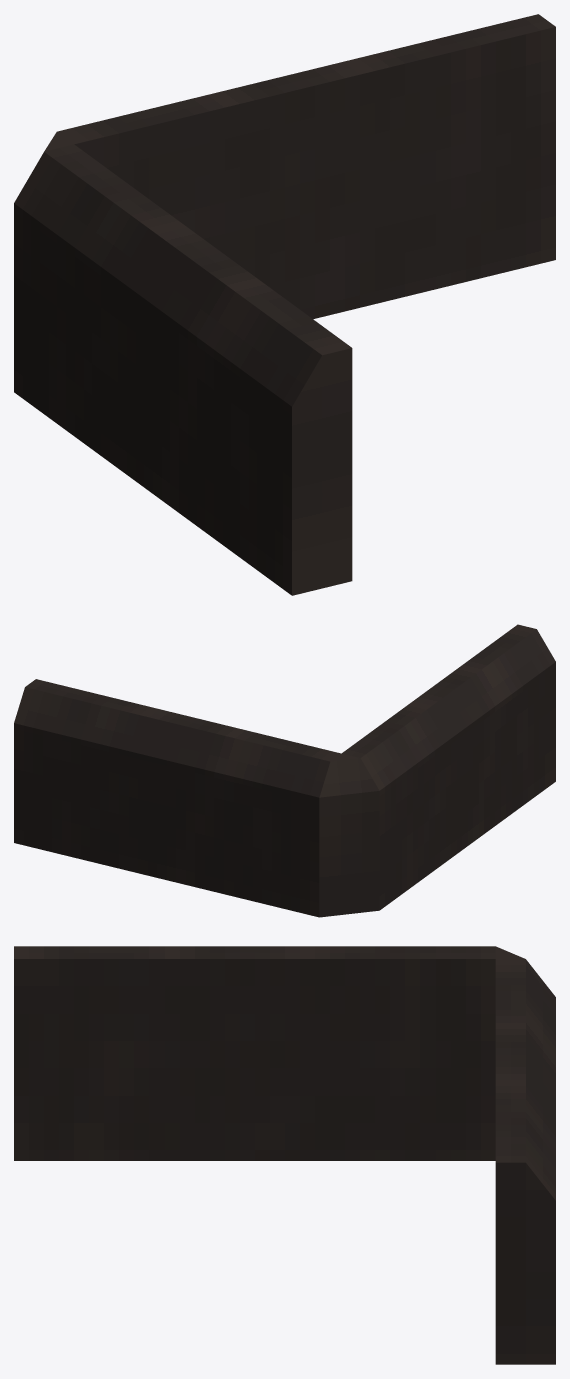
Rendered from wallTrimCurve.gltf.
3 views of the same model, one above another, from view 1: azimuth 30°, elevation 25°; view 2: azimuth 150°, elevation 25°; view 3: azimuth 270°, elevation 25° (orthographic). The views are drawn at different scales.
Parts seen in each view (by area): view 1: wallTrim; view 2: wallTrim; view 3: wallTrim.
Boxes of the visible parts, x1,y1,x2,y2 form: wallTrim: [14, 14, 555, 595]; wallTrim: [14, 624, 555, 917]; wallTrim: [14, 946, 555, 1364].
Size of the model in its own units: 0.5625 by 0.2313 by 0.5625.
1 material, 1 textured.
